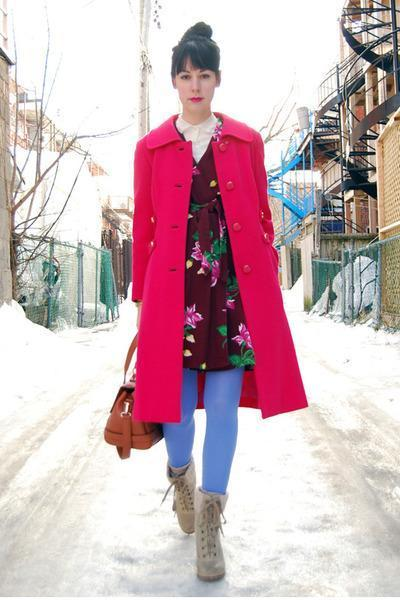dress: (183, 139, 253, 371)
jacket: (132, 112, 307, 419)
shoe: (163, 452, 227, 583)
